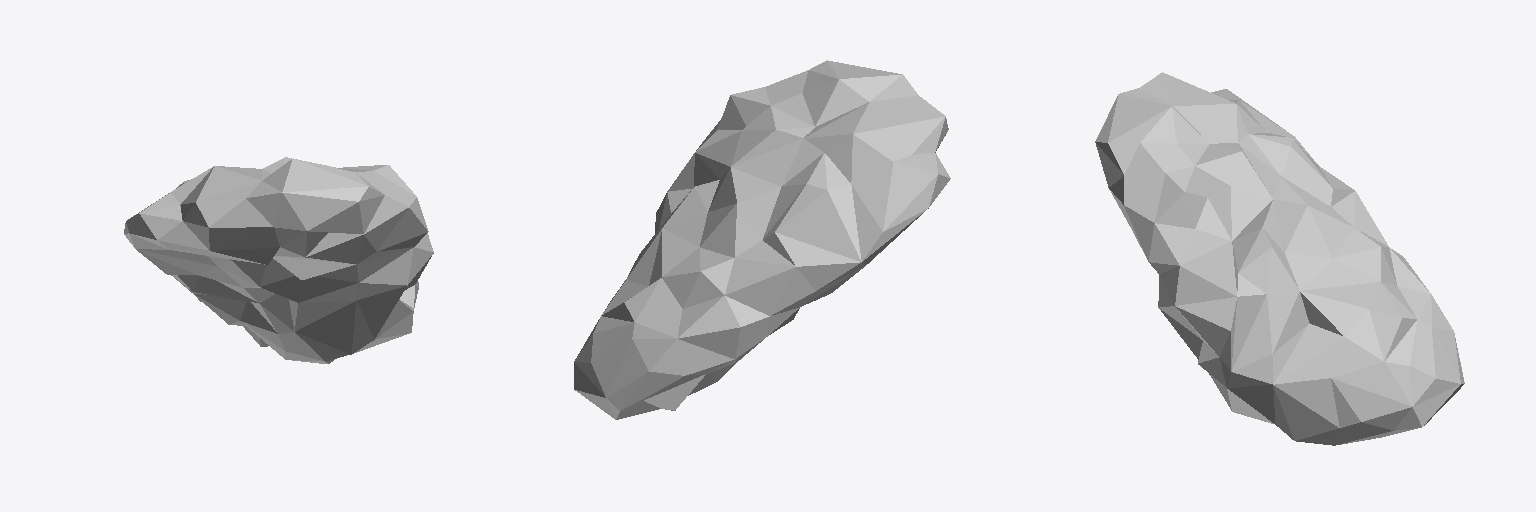
The model's file is rock_004.obj.
3 views of the same model, side by side, from view 1: azimuth 30°, elevation 25°; view 2: azimuth 150°, elevation 25°; view 3: azimuth 270°, elevation 25° (orthographic).
Visible parts, largest first — view 1: rock.004_rock.016; view 2: rock.004_rock.016; view 3: rock.004_rock.016.
Part boxes in pixels (bbox=[...]): rock.004_rock.016: bbox=[124, 157, 433, 363]; rock.004_rock.016: bbox=[574, 60, 950, 419]; rock.004_rock.016: bbox=[1095, 72, 1464, 445].
Size of the model in its own units: 7.79 by 7.32 by 8.68.